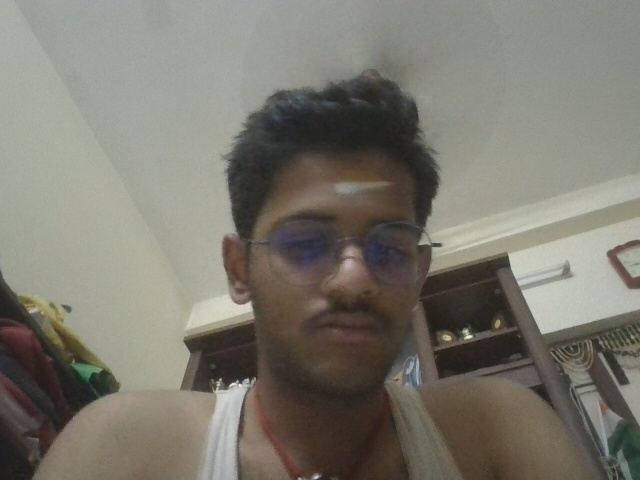real: (234, 153, 464, 383)
